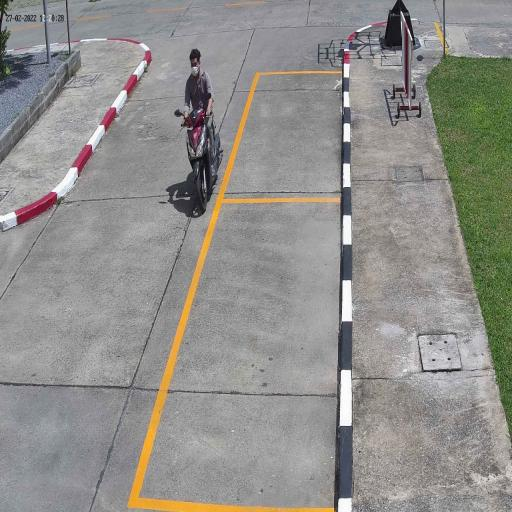motorcycle: (186, 110, 224, 210)
